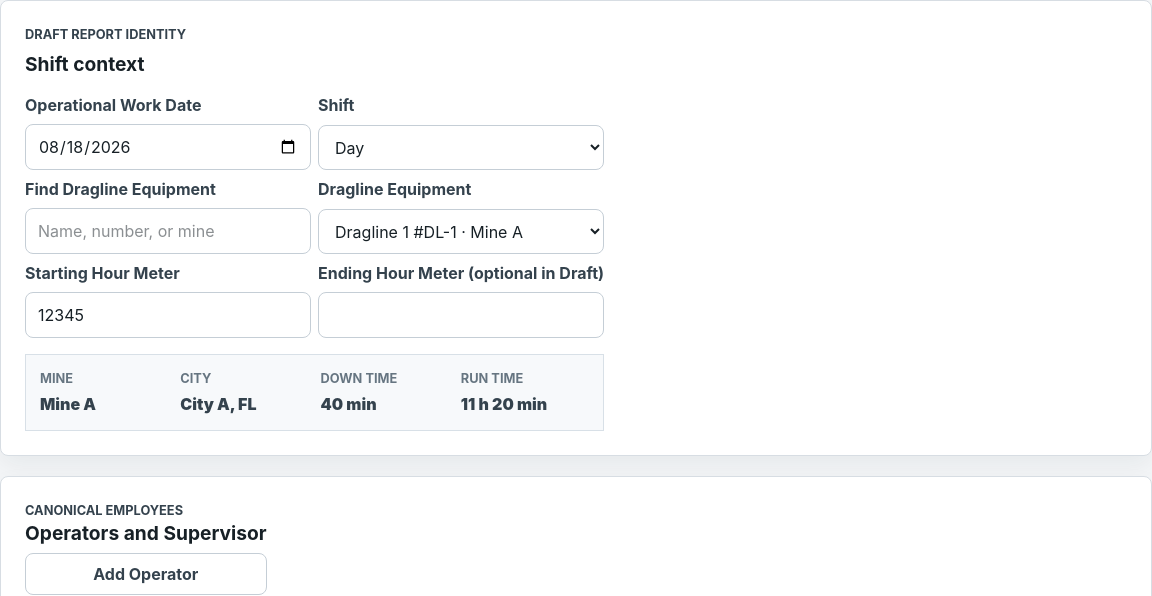
Test: DraglineDelayReportForm › switches untouched Day defaults to Night defaults and back
The width and height of the screenshot is (1152, 596).
Select "Night" in the dropdown labelled "Shift" at (461, 148), box [318, 125, 604, 170]
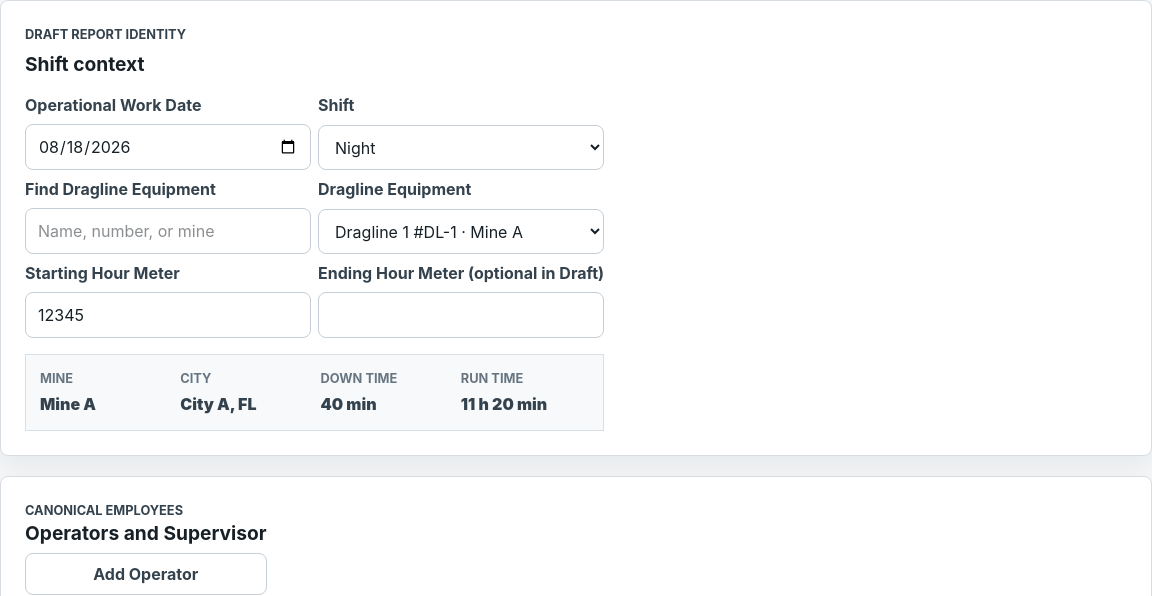
Select "Day" in the dropdown labelled "Shift" at (461, 148), box [318, 125, 604, 170]
(page scrolled)
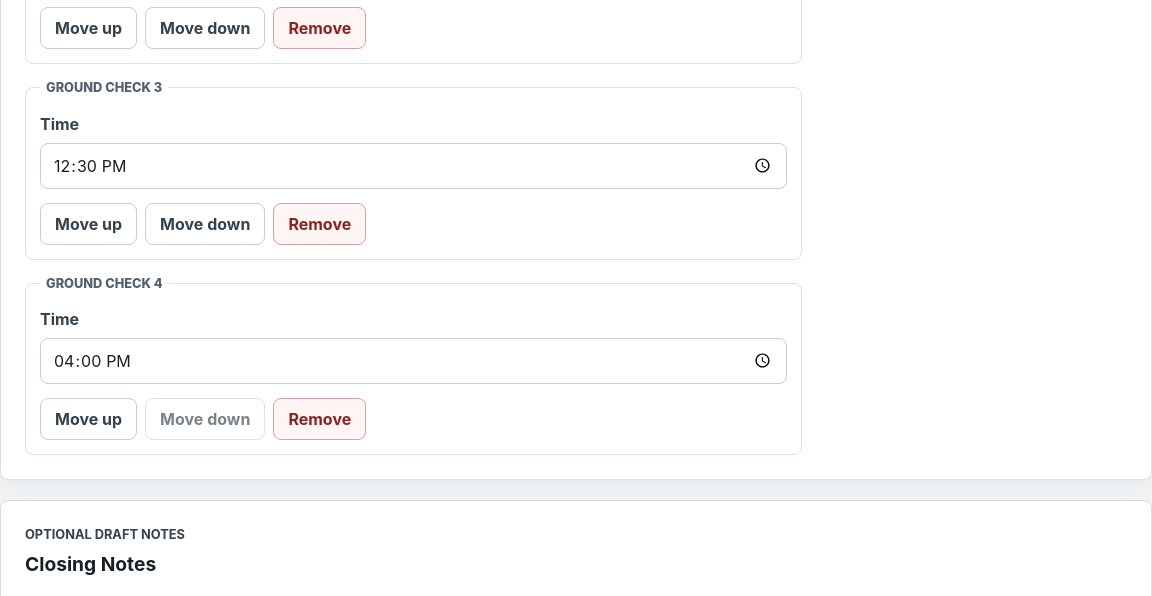
Expected: the time field named "Ground Check time 3" holds "12:30", [40, 143, 787, 189]
Expected: the time field named "Ground Check time 4" holds "16:00", [40, 338, 787, 384]
